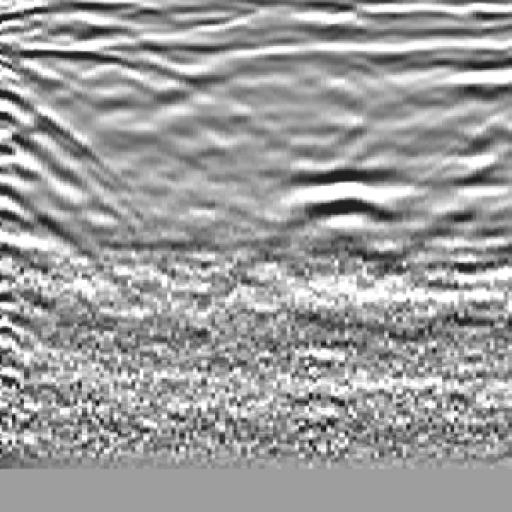metalic: (249, 37, 444, 275)
nonmetalic: (1, 39, 131, 274)
